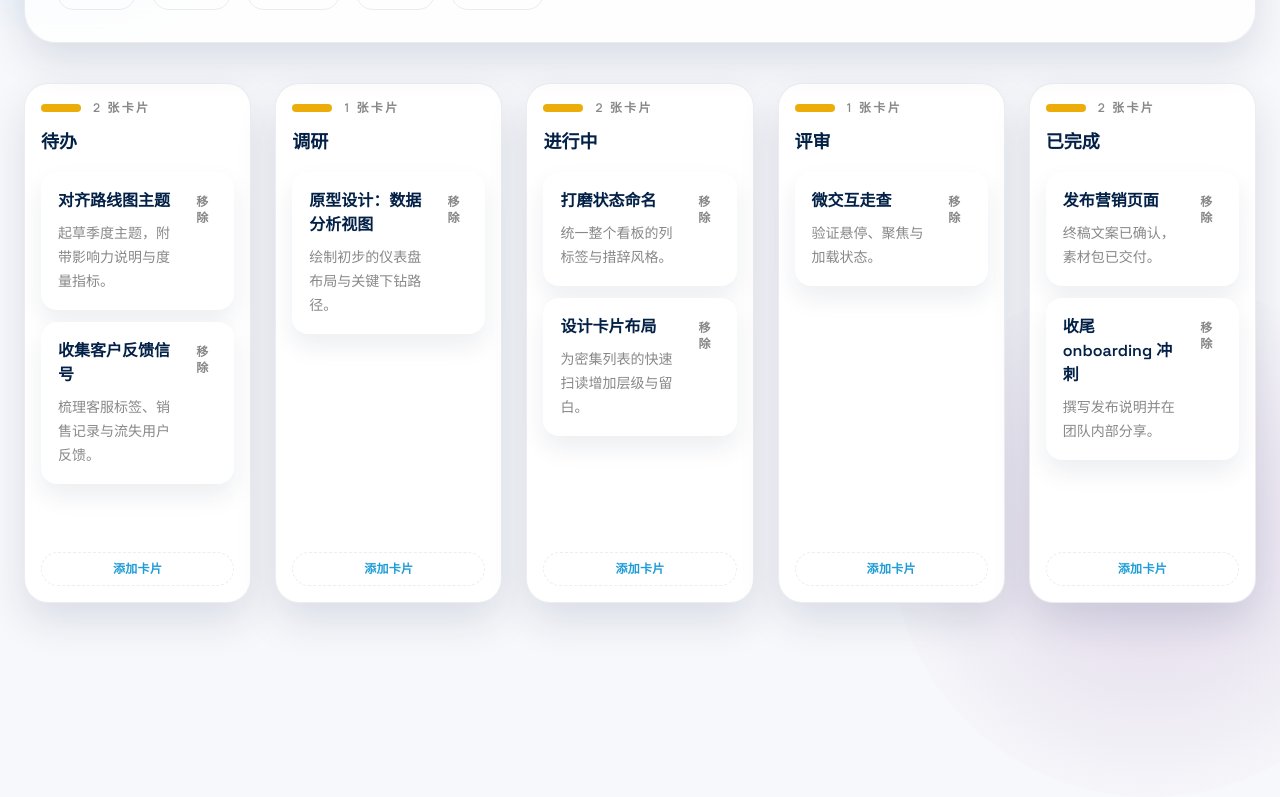
看板（KanbanBoard） › 添加并移除卡片
The width and height of the screenshot is (1280, 797).
(page scrolled)
Click the 1st button "添加卡片" at (138,569), box [41,552,234,586]
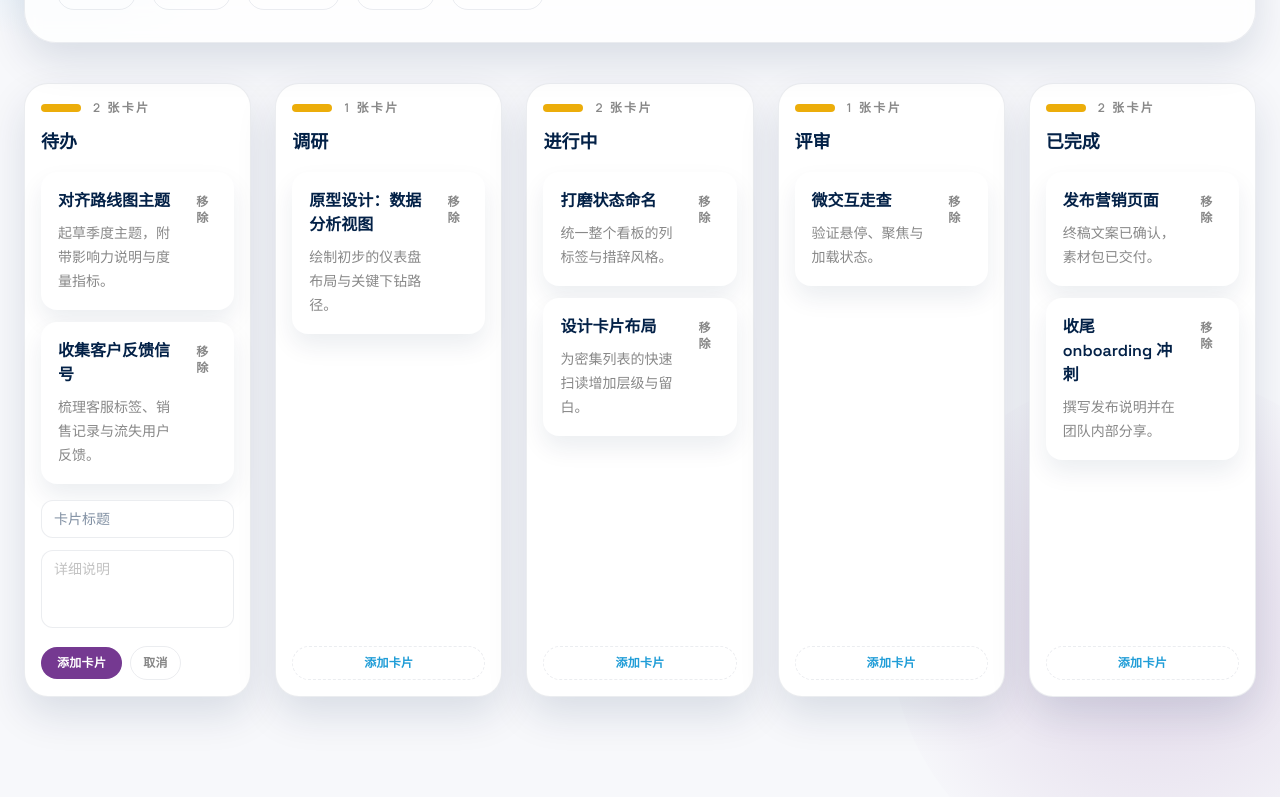
Type "新卡片" into the field with placeholder "卡片标题" at (138,519), box [41,500,234,538]
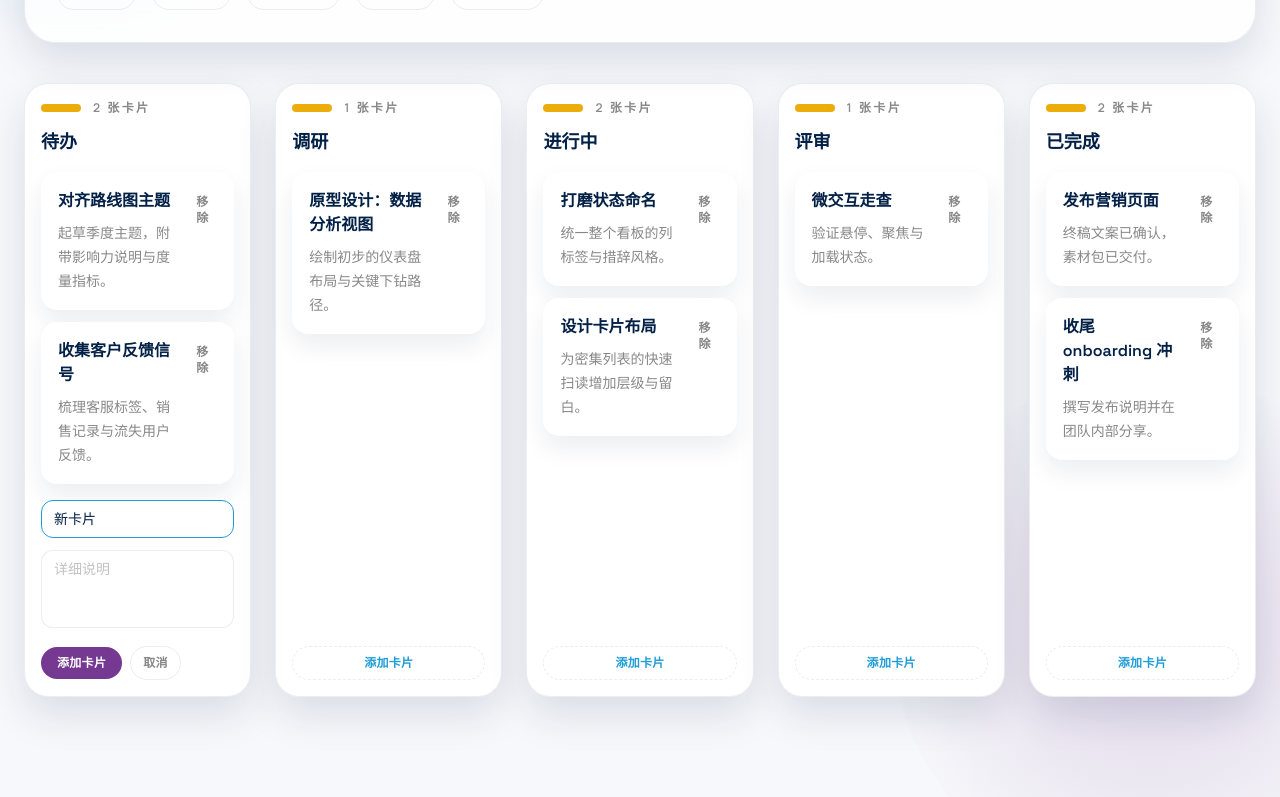
Type "备注" into the text box with placeholder "详细说明" at (138,589), box [41,550,234,628]
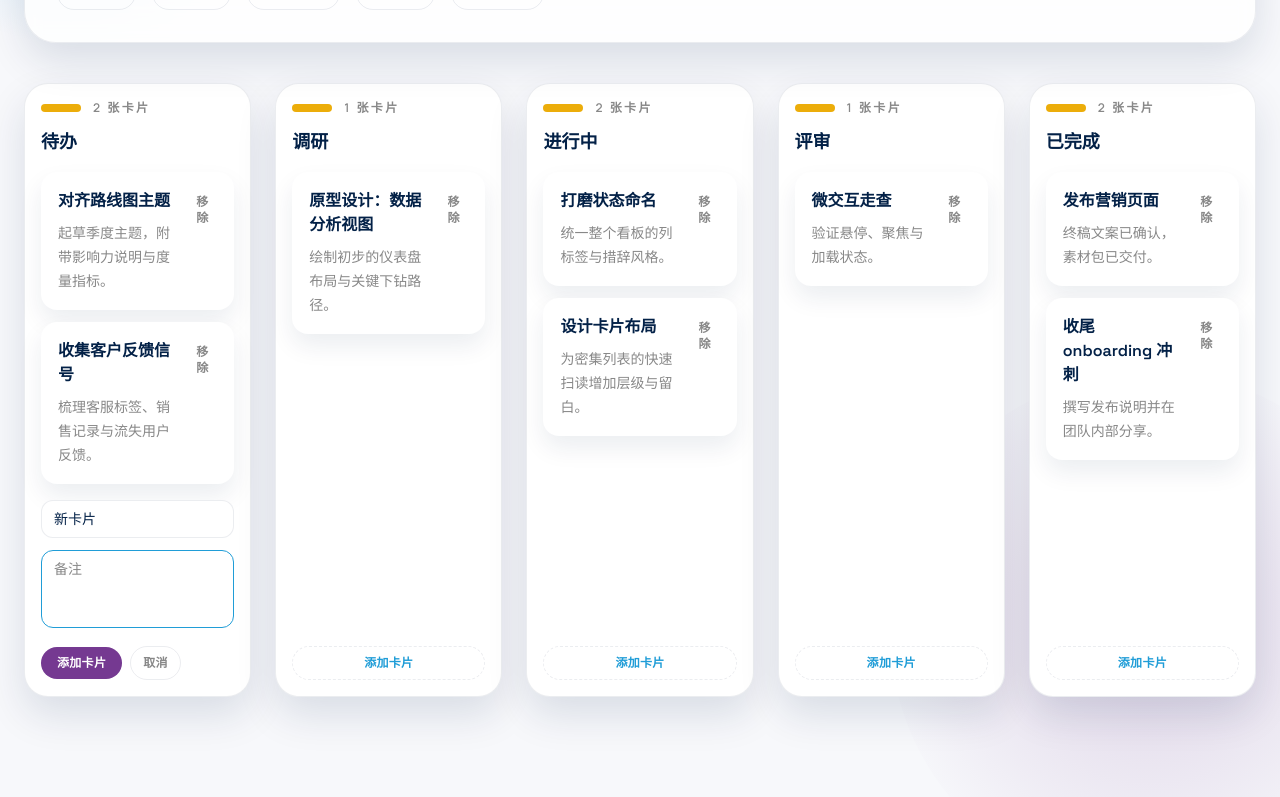
Click the 1st button "添加卡片" at (82,663), box [41,647,122,679]
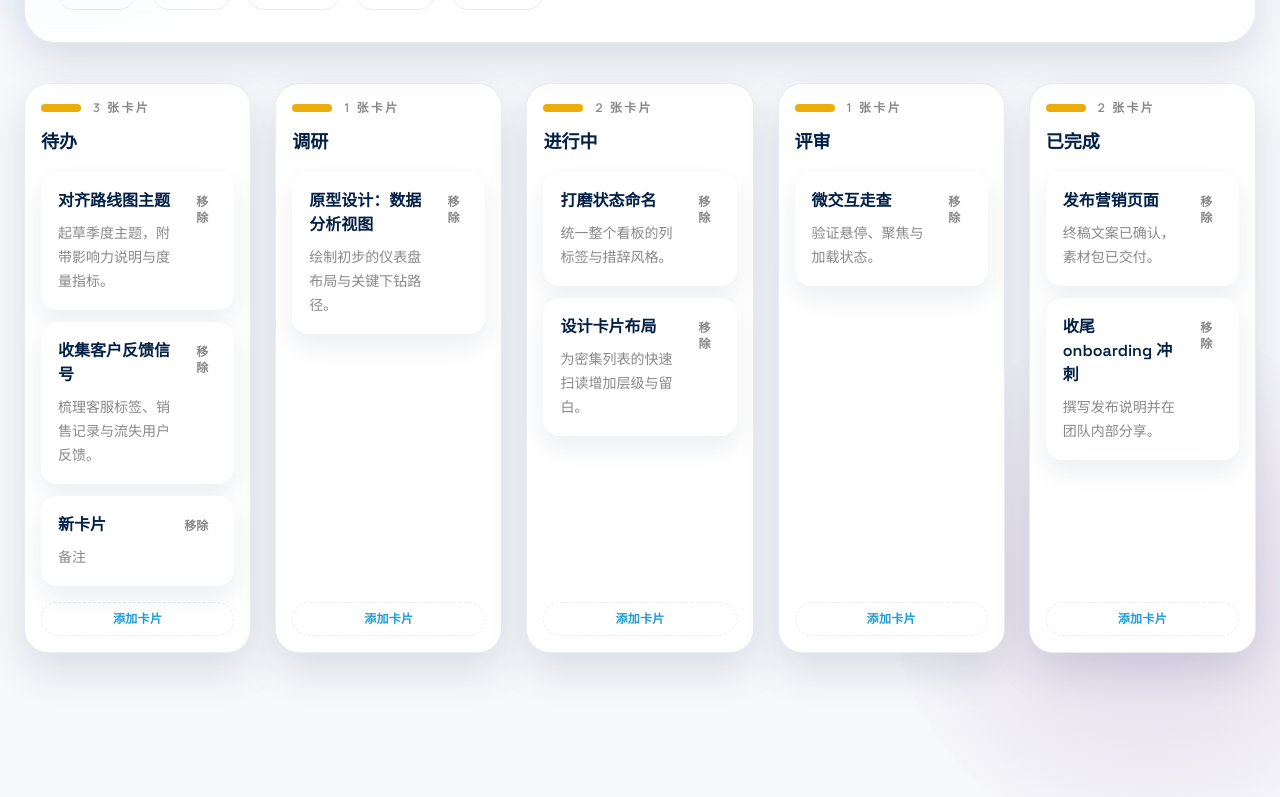
Expected: the heading "新卡片" is shown, [58,513,106,537]
Click the button with aria-label "删除 新卡片" at (196,526), box [175,513,217,539]
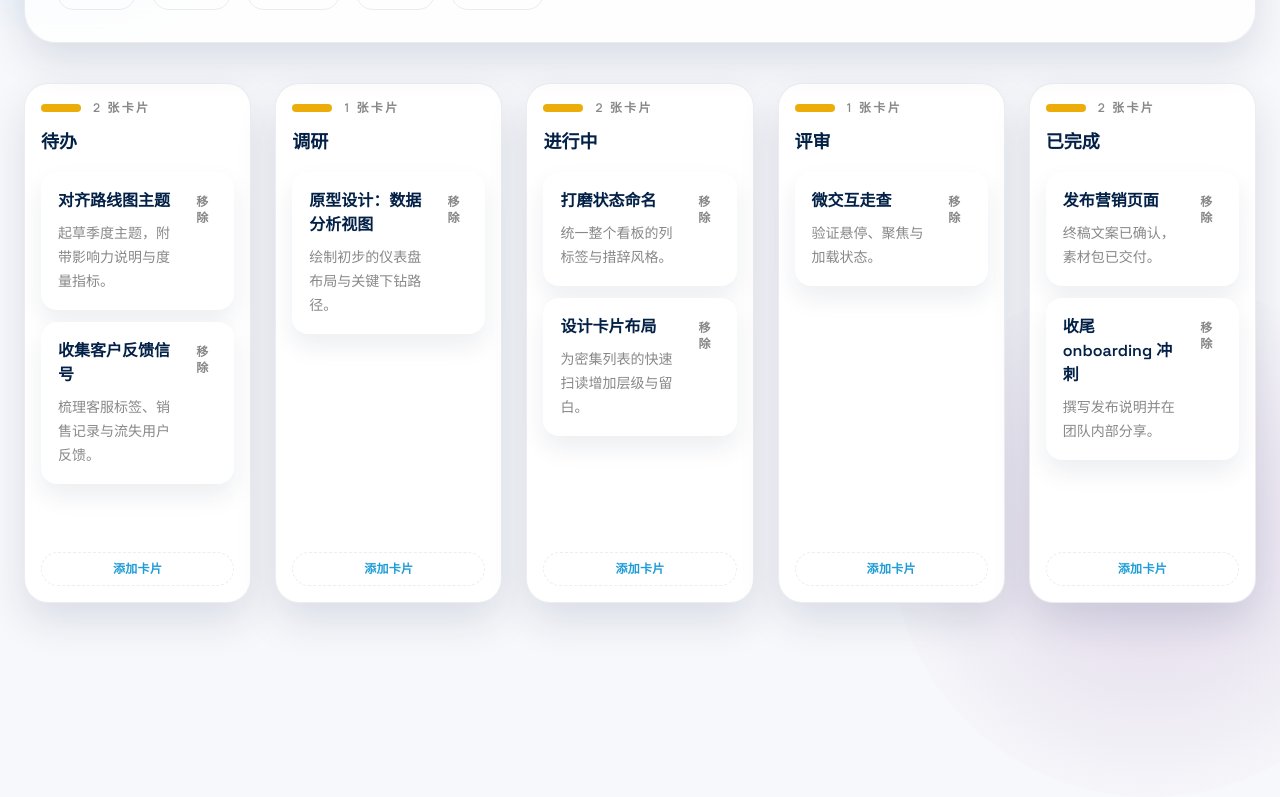
Expected: the button "新卡片" is gone
